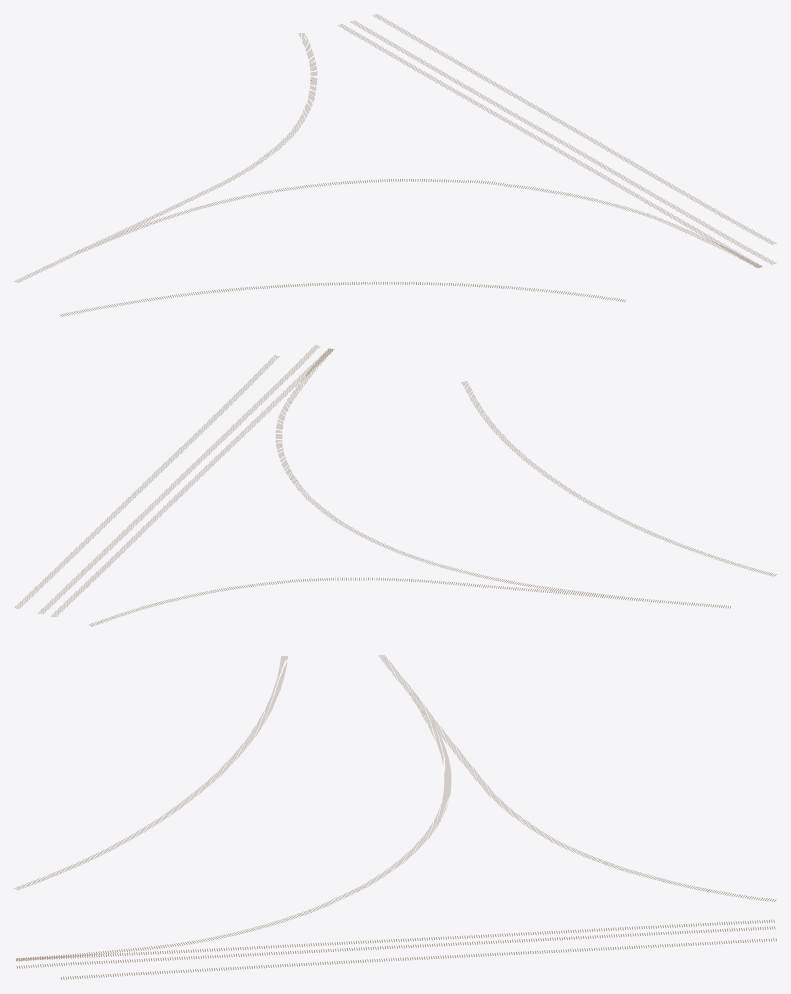
Rendered from c_1630_17822_rail_sleeper.glb.
3 renders of one model, top to bottom at view 1: azimuth 30°, elevation 25°; view 2: azimuth 150°, elevation 25°; view 3: azimuth 270°, elevation 25°, orthographic. The views are drawn at different scales.
Visible parts, largest first — view 1: geometry_0; view 2: geometry_0; view 3: geometry_0.
Part boxes in pixels (x1,y1,x2,y2): geometry_0: (14,14,776,316); geometry_0: (15,345,776,626); geometry_0: (14,655,776,979).
Bounding box in the file's own units: 257 × 1.27 × 257.
